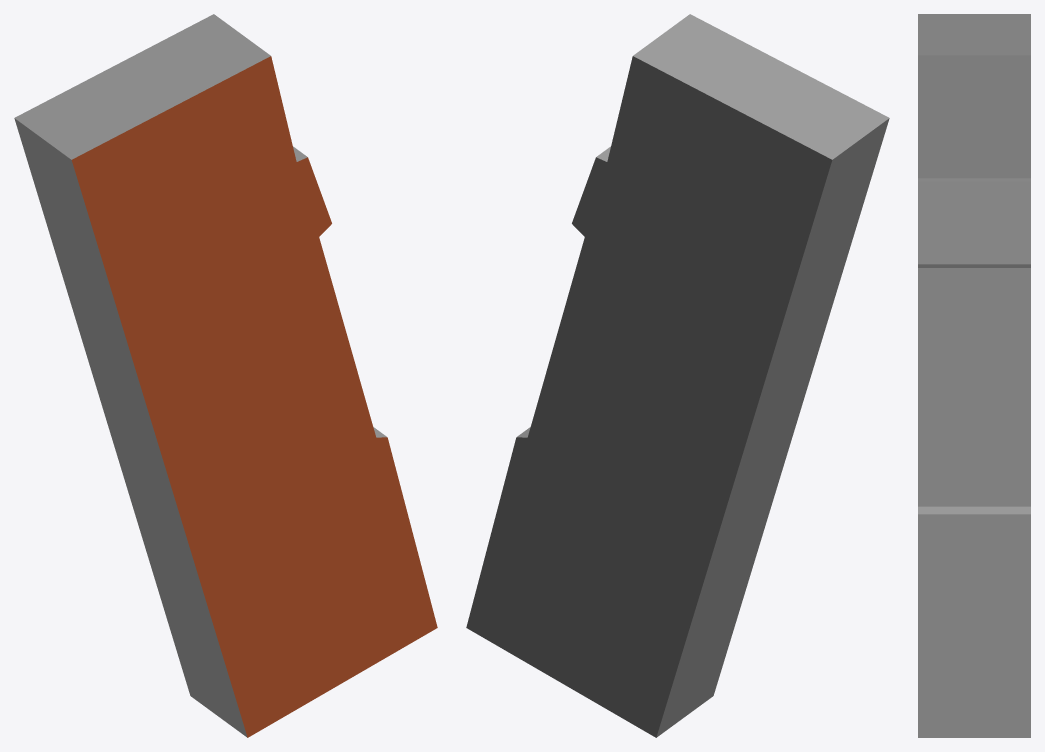
Rendered from construction_2638_assumed_A_Casa_h6m.obj.
3 renders of one model, left to right at view 1: azimuth 30°, elevation 25°; view 2: azimuth 150°, elevation 25°; view 3: azimuth 270°, elevation 25°, orthographic.
Visible parts, largest first — view 1: construction_2638_assumed_A_Casa; view 2: construction_2638_assumed_A_Casa; view 3: construction_2638_assumed_A_Casa.
Boxes of the visible parts, box(x1,y1,x2,y2) form: construction_2638_assumed_A_Casa: box(14, 14, 437, 737); construction_2638_assumed_A_Casa: box(466, 14, 889, 737); construction_2638_assumed_A_Casa: box(918, 14, 1030, 737).
Size of the model in its own units: 22.13 by 39.06 by 6.
